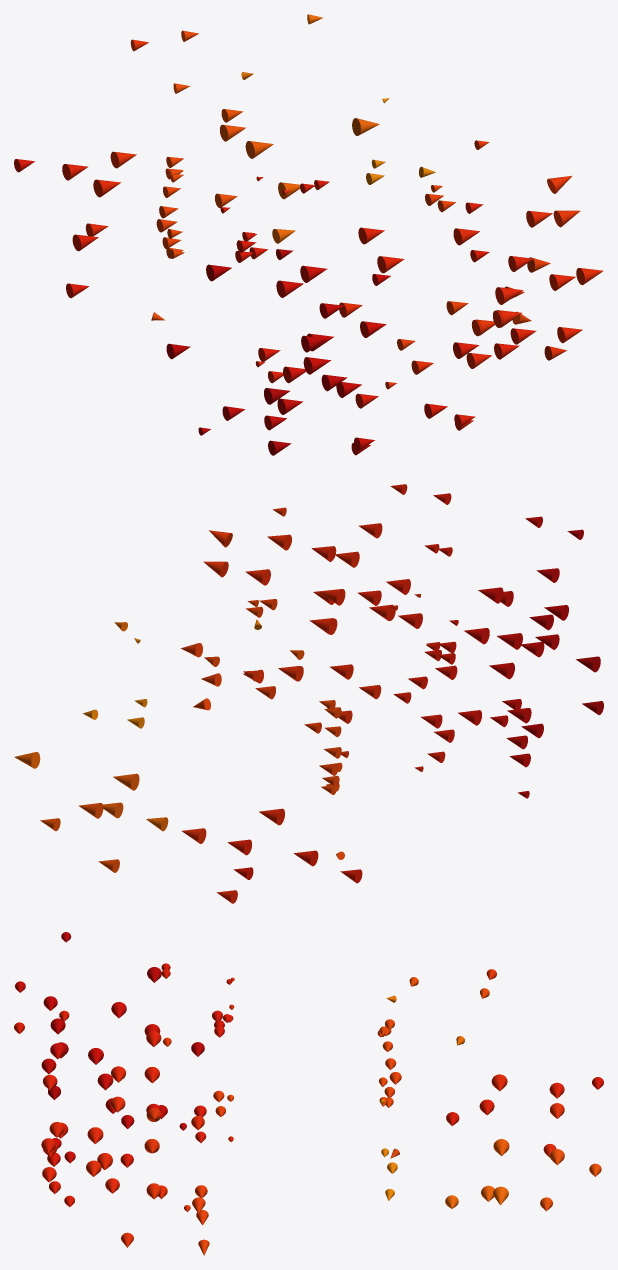
Rendered from LineasCorrienteH2-O2_mh2-5.58_V-1.1.glb.
3 renders of one model, top to bottom at view 1: azimuth 30°, elevation 25°; view 2: azimuth 150°, elevation 25°; view 3: azimuth 270°, elevation 25°, orthographic. The views are drawn at different scales.
Size of the model in its own units: 0.000805 by 0.000482 by 0.00123.
Materials: 2 (2 with a texture image).
